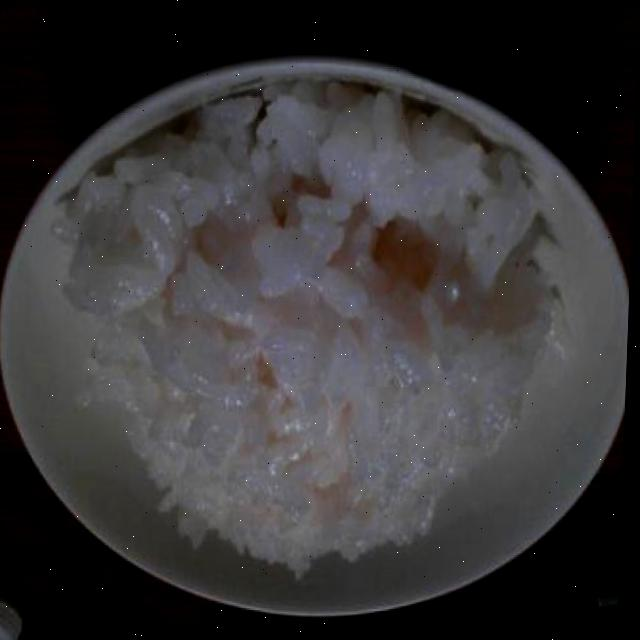米饭主食: (194, 1, 634, 640)
